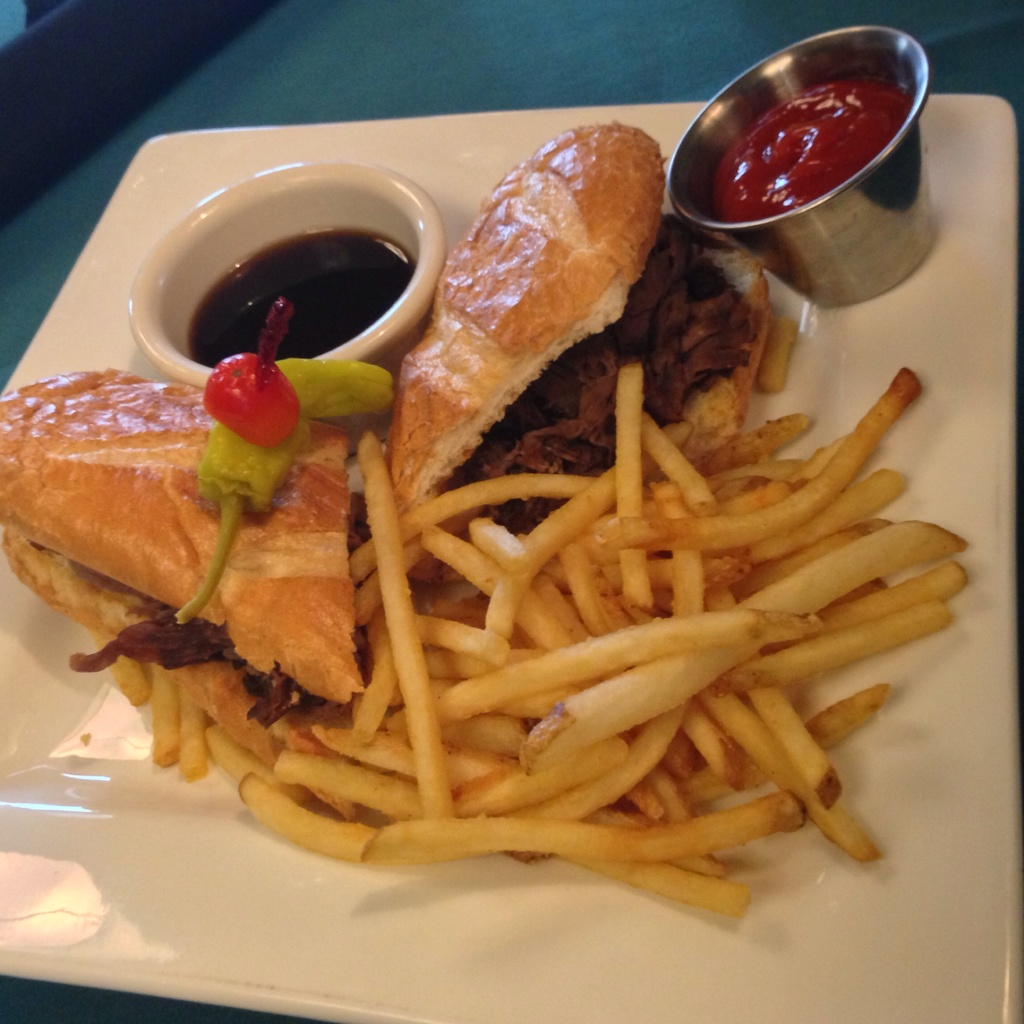French fries: (105, 256, 970, 929)
